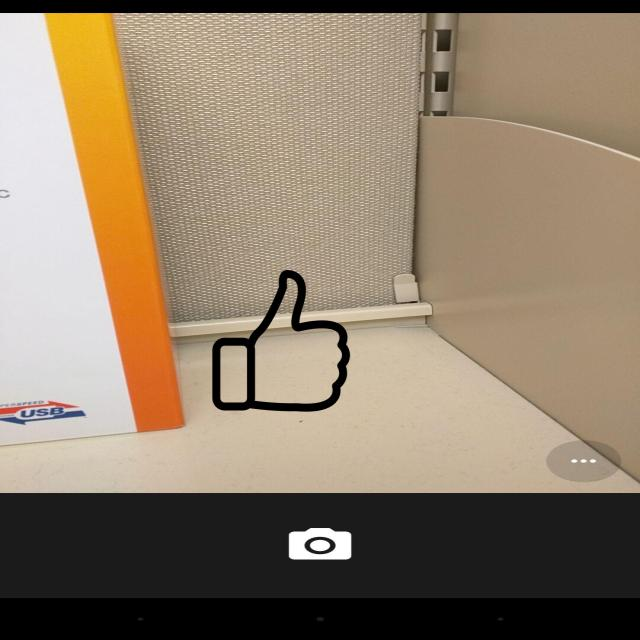privacy zuckering: (210, 270, 352, 412)
